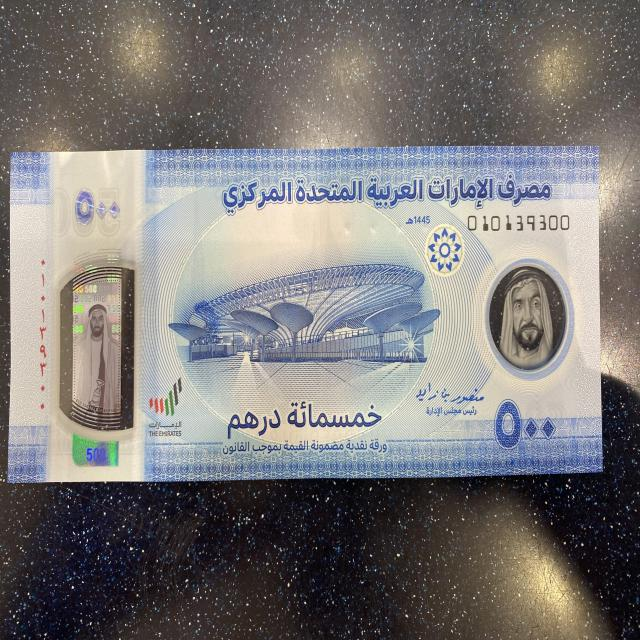500_AED: (5, 139, 609, 491)
